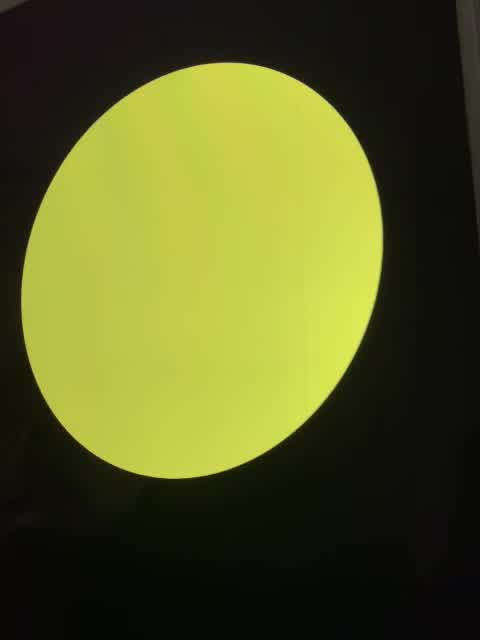left: (9, 52, 389, 486)
